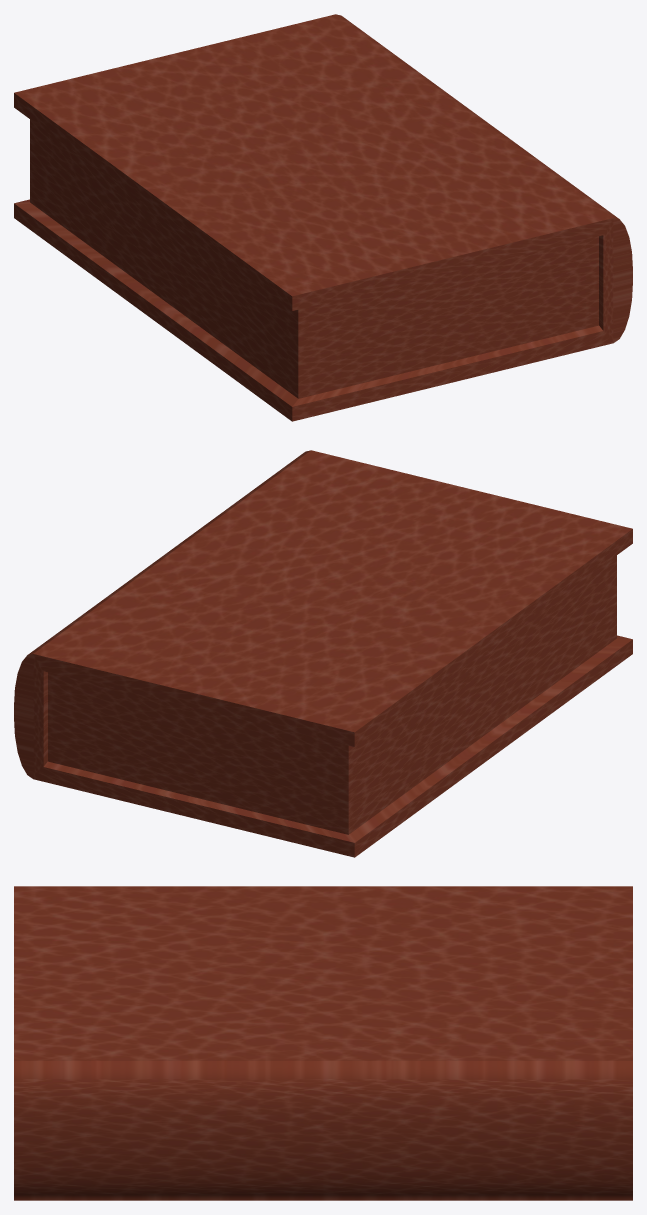
Rendered from Libro 4.fbx.
The picture shows the model from 3 angles, top to bottom: view 1: azimuth 30°, elevation 25°; view 2: azimuth 150°, elevation 25°; view 3: azimuth 270°, elevation 25°; orthographic projection. The views are drawn at different scales.
Parts seen in each view (by area): view 1: Cube.068; view 2: Cube.068; view 3: Cube.068.
Part boxes in pixels (x1,y1,x2,y2): Cube.068: (14, 14, 632, 421); Cube.068: (14, 450, 632, 857); Cube.068: (14, 886, 632, 1200).
Size of the model in its own units: 14.12 by 4.96 by 19.96.
